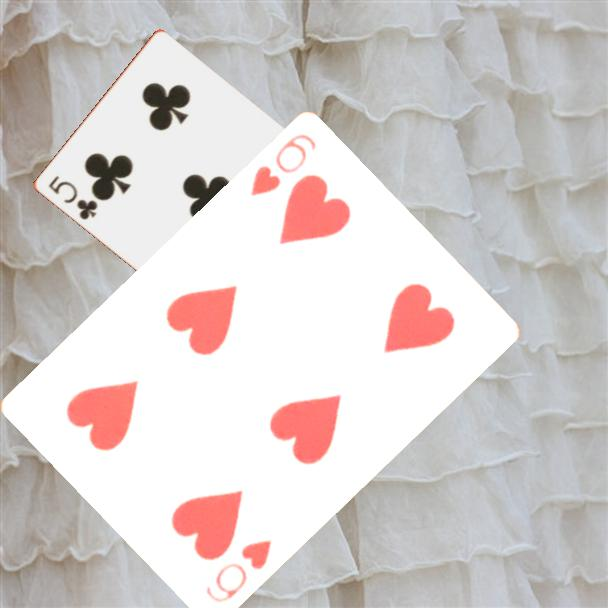c05: (44, 172, 100, 223)
h06: (202, 536, 275, 607), (247, 130, 320, 200)
